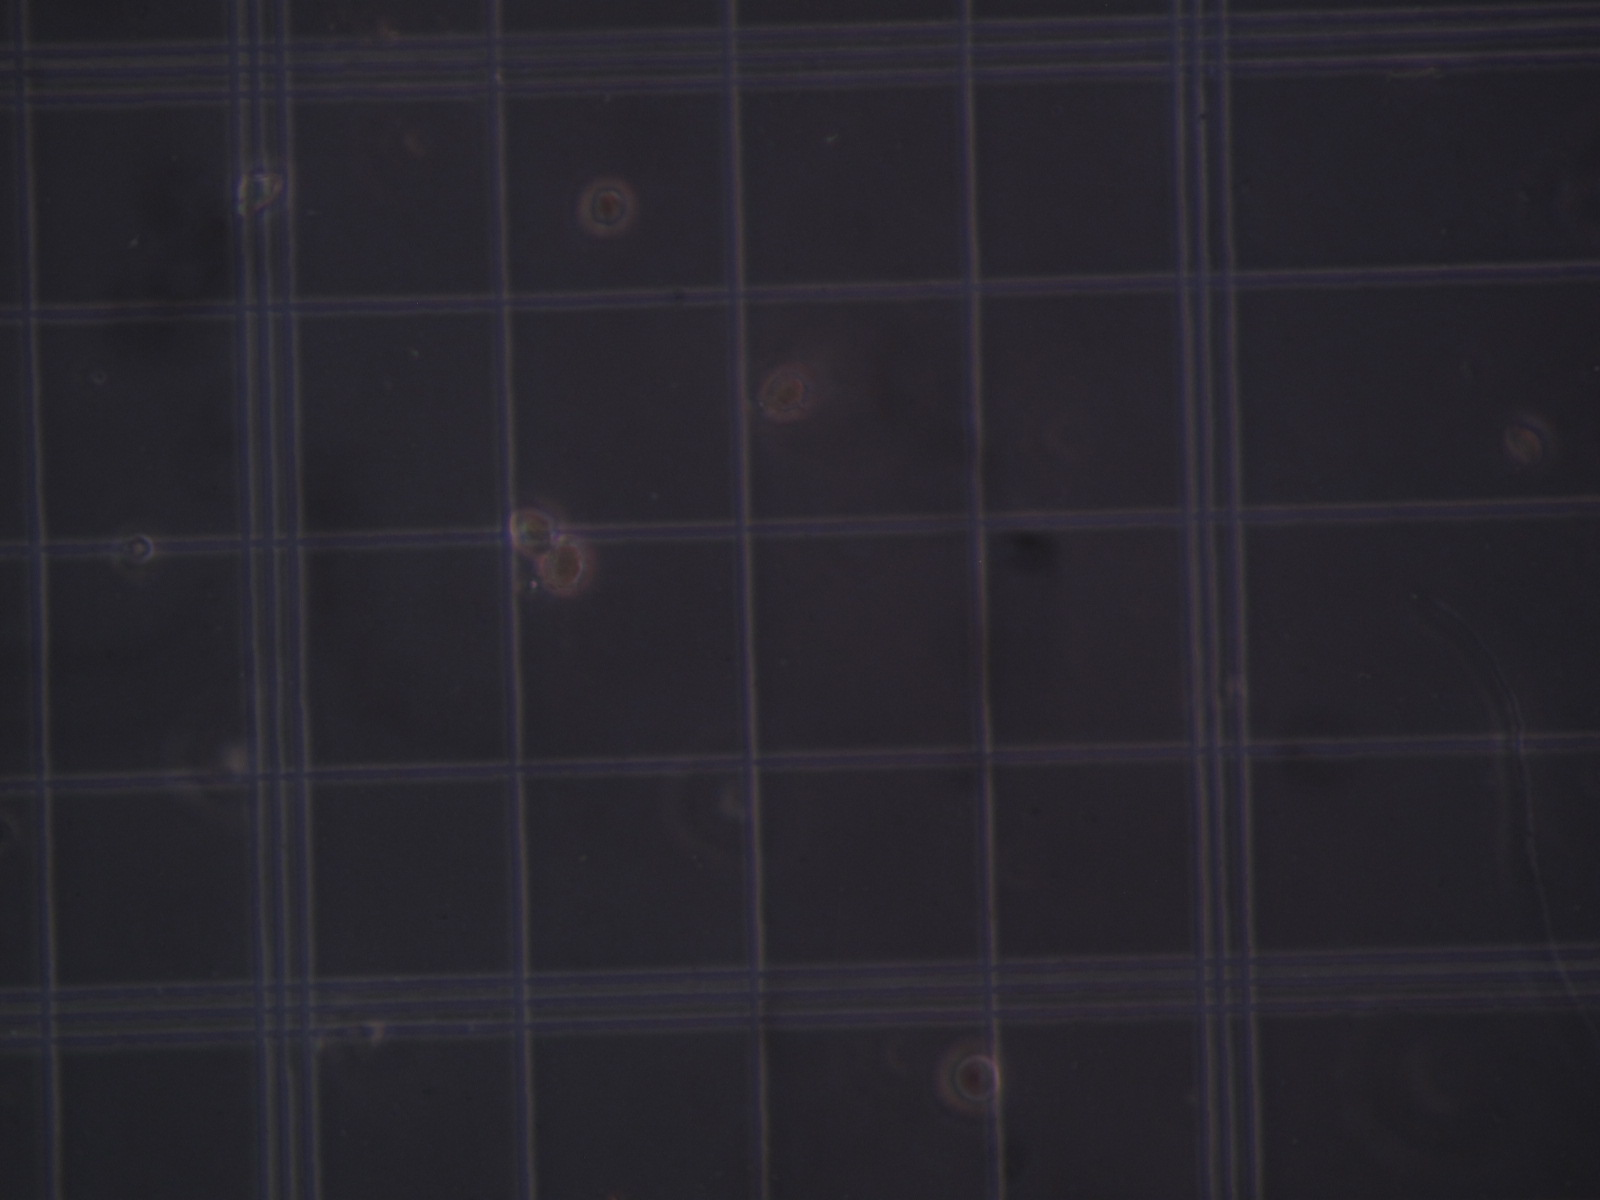hemo: (936, 1037, 1005, 1119), (227, 158, 299, 224), (506, 493, 567, 563), (574, 175, 636, 237), (539, 532, 596, 595), (1503, 412, 1558, 473), (758, 364, 815, 421), (110, 519, 159, 584)
